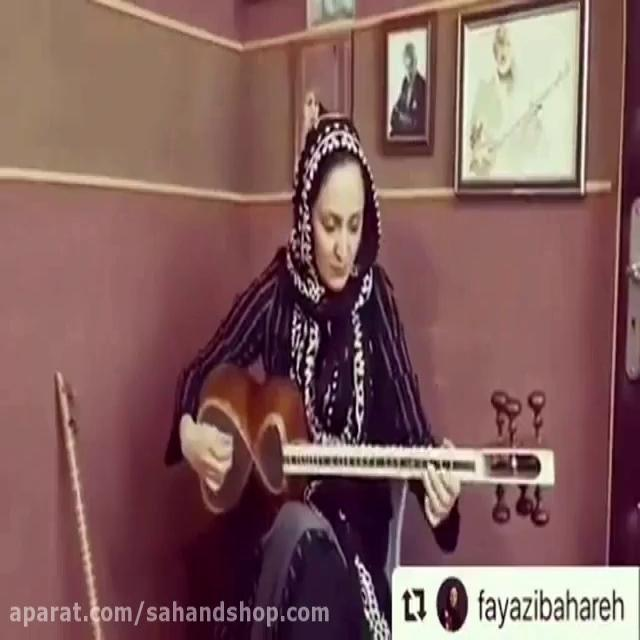Setar: (187, 358, 563, 531)
